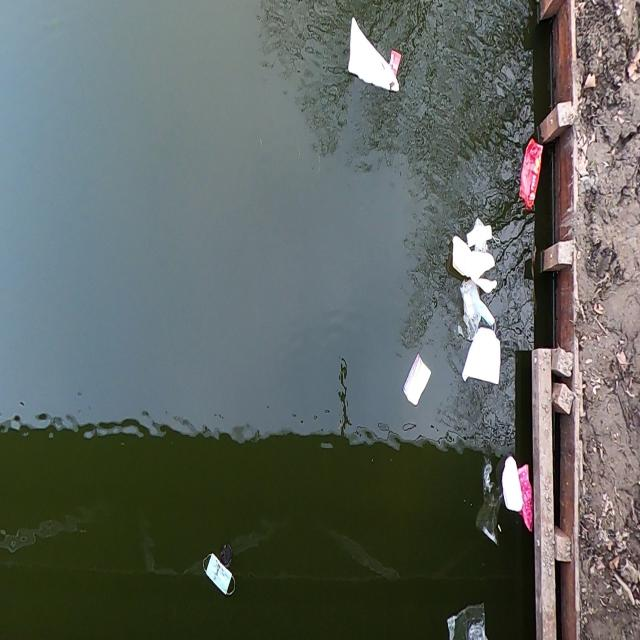Autre plastique: (519, 140, 548, 216)
Non plastique: (193, 548, 241, 605)
Sac plastique: (477, 452, 504, 546), (441, 595, 493, 640), (460, 281, 479, 341)
